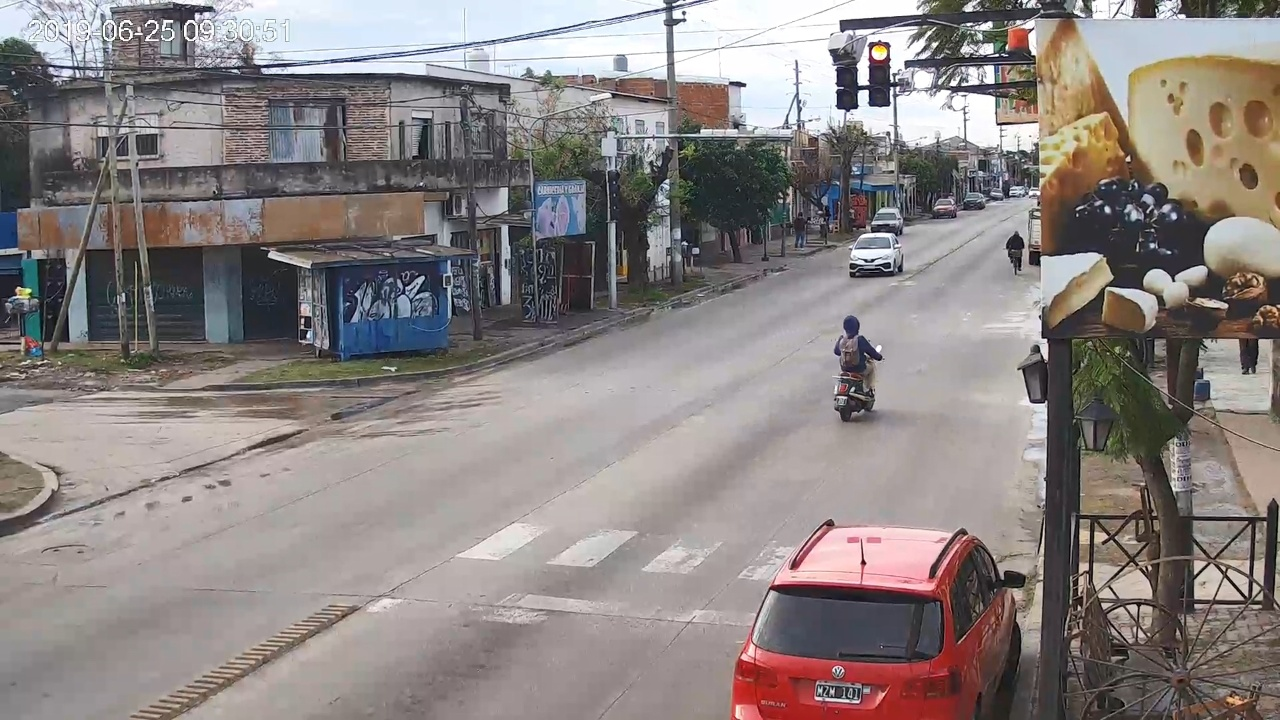bicycle: (1006, 231, 1025, 275)
car: (733, 518, 1026, 720)
front car: (849, 232, 904, 277)
motorcycle: (832, 335, 884, 421)
traffic light: (869, 40, 890, 107)
